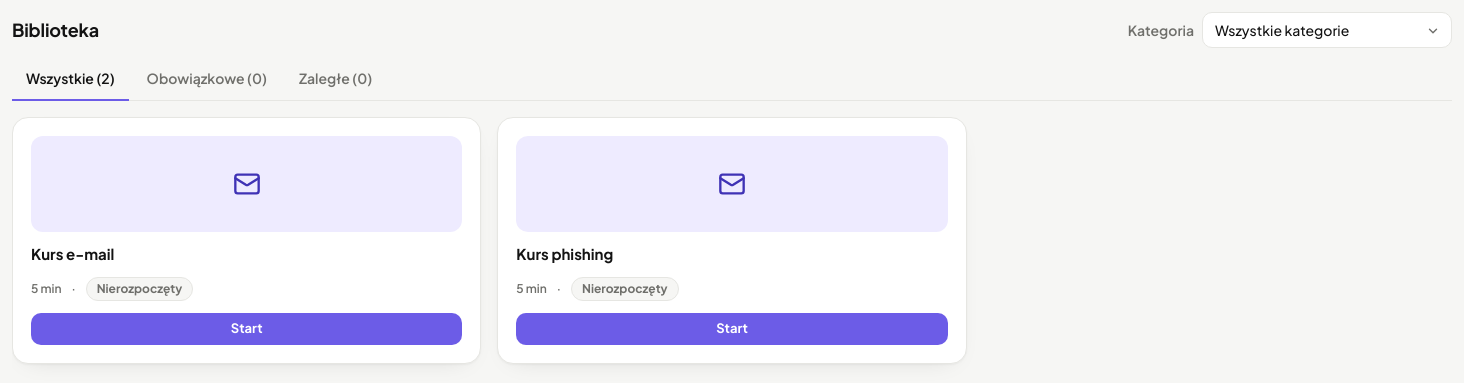
CourseLibrary - filtrowanie klienckie po zakładkach › selektor kategorii filtruje TEN SAM zestaw danych (bez dodatkowego zapytania)
Select "Bezpieczeństwo e-mail" in the dropdown labelled "Kategoria" at (1327, 30), box x1=1202 y1=12 x2=1452 y2=48
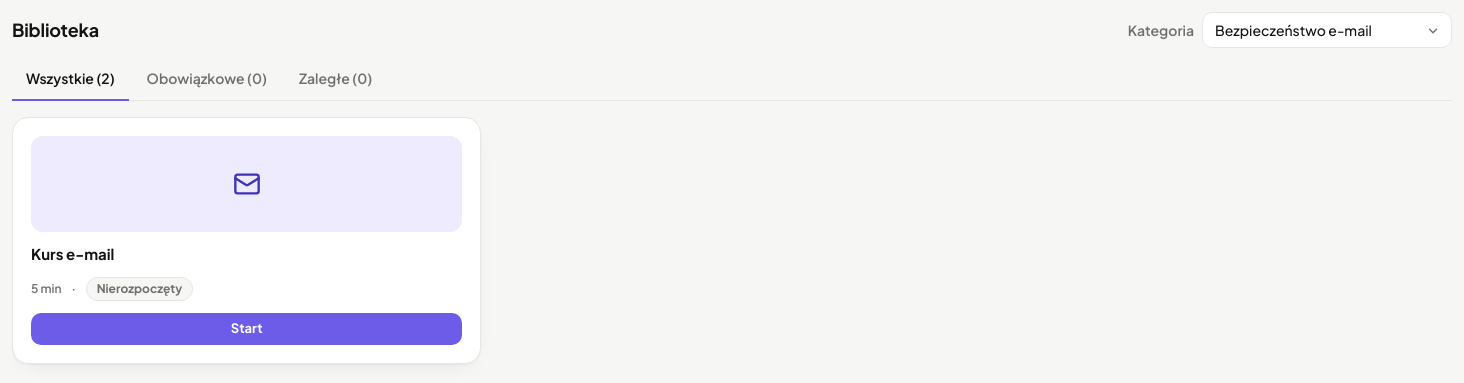
Expected: the heading "Kurs e-mail" is shown, x1=31 y1=244 x2=114 y2=263
Expected: the heading "Kurs phishing" is gone
